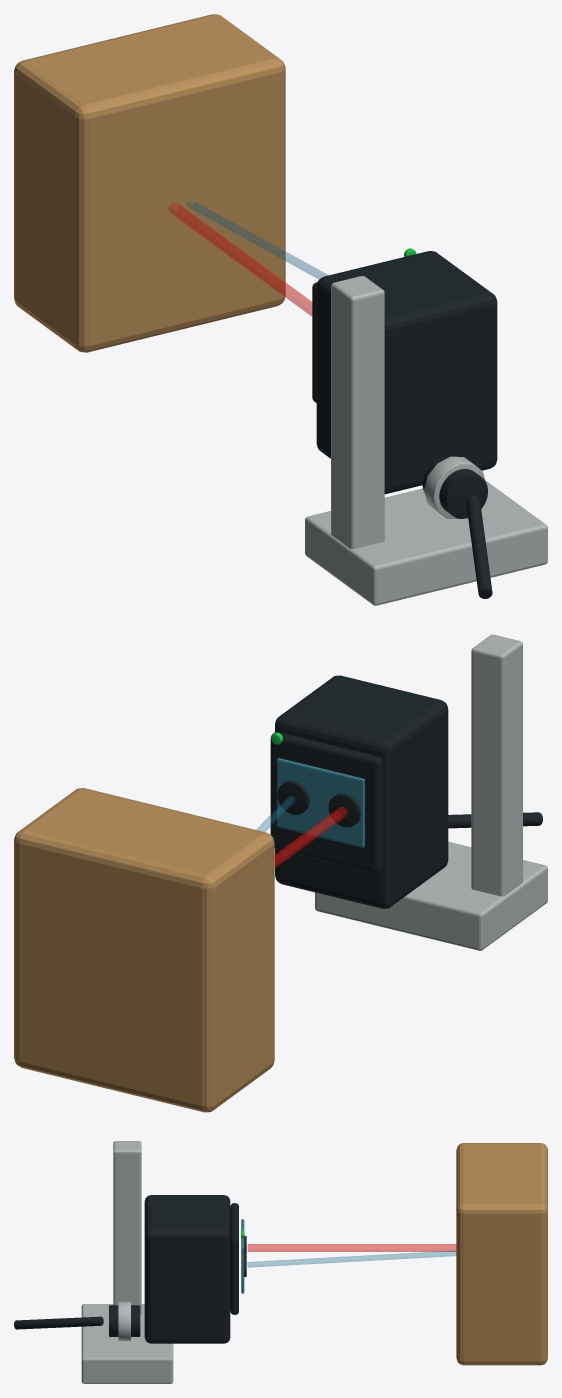
File: diffuse_photoelectric_sensor.glb
3 renders of one model, top to bottom at view 1: azimuth 30°, elevation 25°; view 2: azimuth 150°, elevation 25°; view 3: azimuth 270°, elevation 25°, orthographic. The views are drawn at different scales.
Visible parts, largest first — view 1: TARGET_carton, PHOTOEYE_body, L_BRACKET_base, L_BRACKET_upright, EMITTED_beam, M12_body, SENSOR_cable, RETURNED_light, M12_nut; view 2: TARGET_carton, PHOTOEYE_body, L_BRACKET_upright, L_BRACKET_base, OPTICAL_face, OPTICAL_window_inner, EMITTED_beam, EMITTER_lens, RECEIVER_lens, SENSOR_cable; view 3: TARGET_carton, PHOTOEYE_body, L_BRACKET_base, L_BRACKET_upright, EMITTED_beam, RETURNED_light, OPTICAL_face, SENSOR_cable, M12_body, M12_nut.
Boxes of the visible parts, x1,y1,x2,y2 form: TARGET_carton: (14,14,285,352); PHOTOEYE_body: (316,251,497,494); L_BRACKET_base: (305,480,547,605); L_BRACKET_upright: (331,276,384,548); EMITTED_beam: (168,202,312,316); M12_body: (422,456,487,518); SENSOR_cable: (466,495,492,598); RETURNED_light: (187,200,328,279); M12_nut: (424,456,485,518); TARGET_carton: (14,788,274,1112); PHOTOEYE_body: (275,675,448,908); L_BRACKET_upright: (471,634,522,896); L_BRACKET_base: (315,841,547,950); OPTICAL_face: (270,732,382,872); OPTICAL_window_inner: (277,758,364,847); EMITTED_beam: (274,806,347,868); EMITTER_lens: (328,793,360,827); RECEIVER_lens: (277,781,309,814); SENSOR_cable: (448,812,542,828); TARGET_carton: (456,1143,547,1365); PHOTOEYE_body: (144,1195,230,1343); L_BRACKET_base: (81,1304,173,1383); L_BRACKET_upright: (113,1141,141,1314); EMITTED_beam: (247,1244,456,1251); RETURNED_light: (247,1250,455,1267); OPTICAL_face: (230,1203,238,1314); SENSOR_cable: (14,1316,103,1329); M12_body: (109,1305,140,1336); M12_nut: (118,1301,130,1340).
Bounding box in the file's own units: 0.55 × 0.73 × 1.87.
